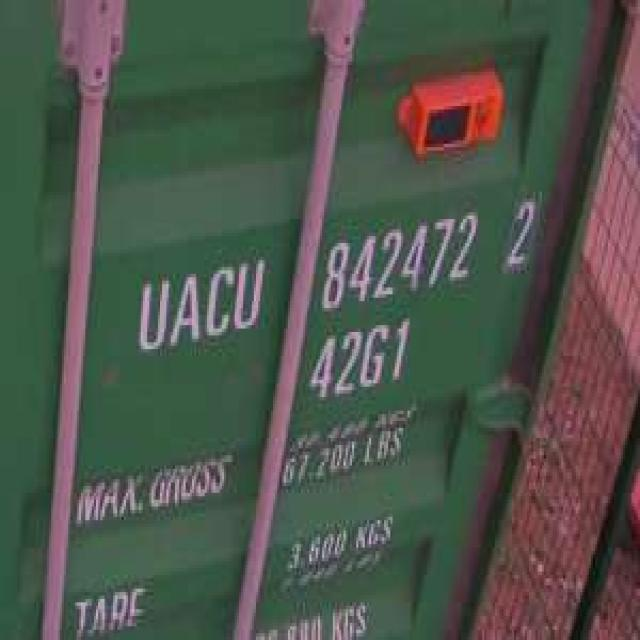dv: (504, 192, 540, 275)
owner: (133, 250, 268, 361)
serial: (320, 205, 479, 313)
size: (304, 315, 414, 405)
